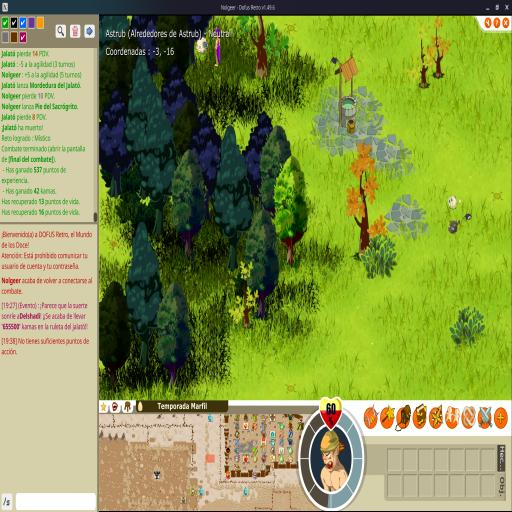Enemigos: (195, 35, 209, 55), (447, 195, 462, 211), (448, 219, 461, 236), (330, 55, 340, 67), (463, 212, 473, 224)
Personaje: (213, 32, 222, 68)
